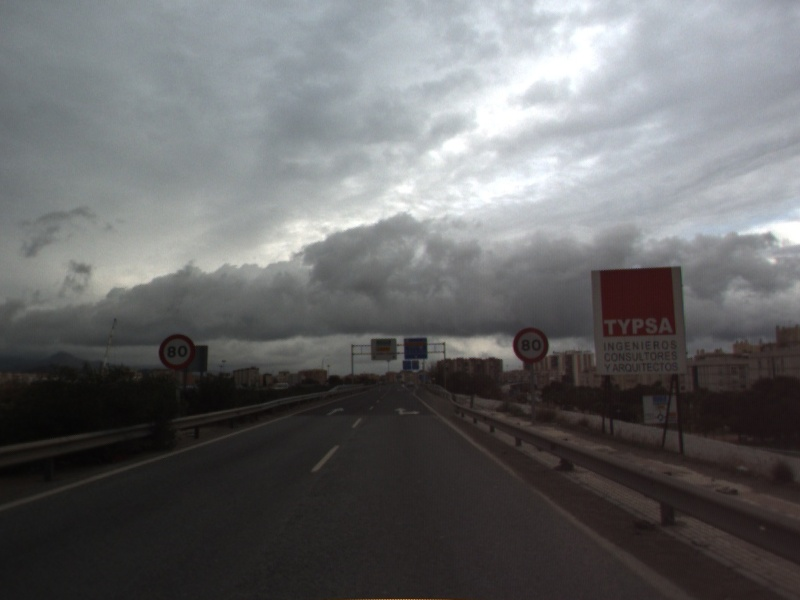STRAIGHT: (323, 404, 347, 417)
STRAIGHT_RIGHT: (392, 405, 423, 417)
